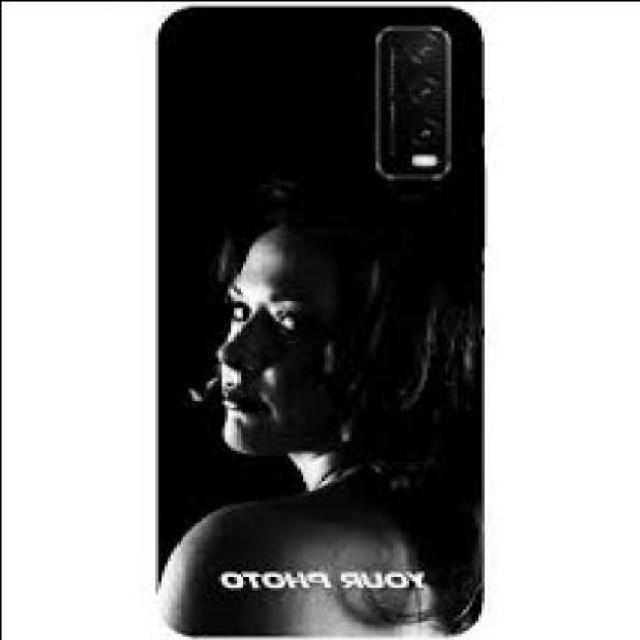fake: (150, 2, 484, 635)
